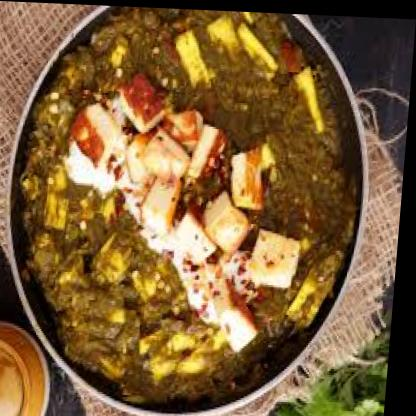palak_paneer: (11, 1, 372, 408)
